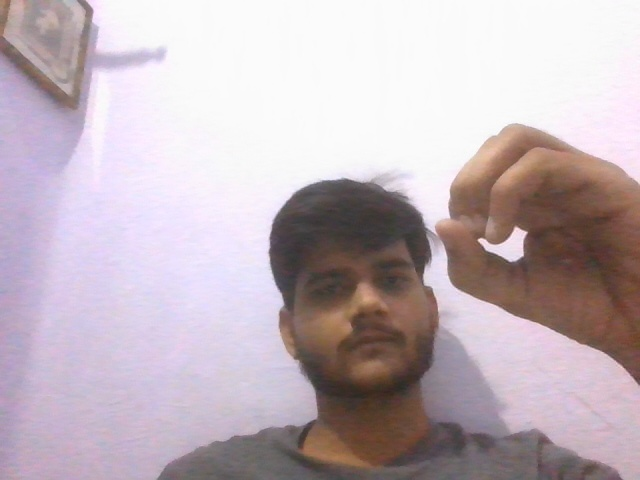no: (418, 93, 640, 395)
